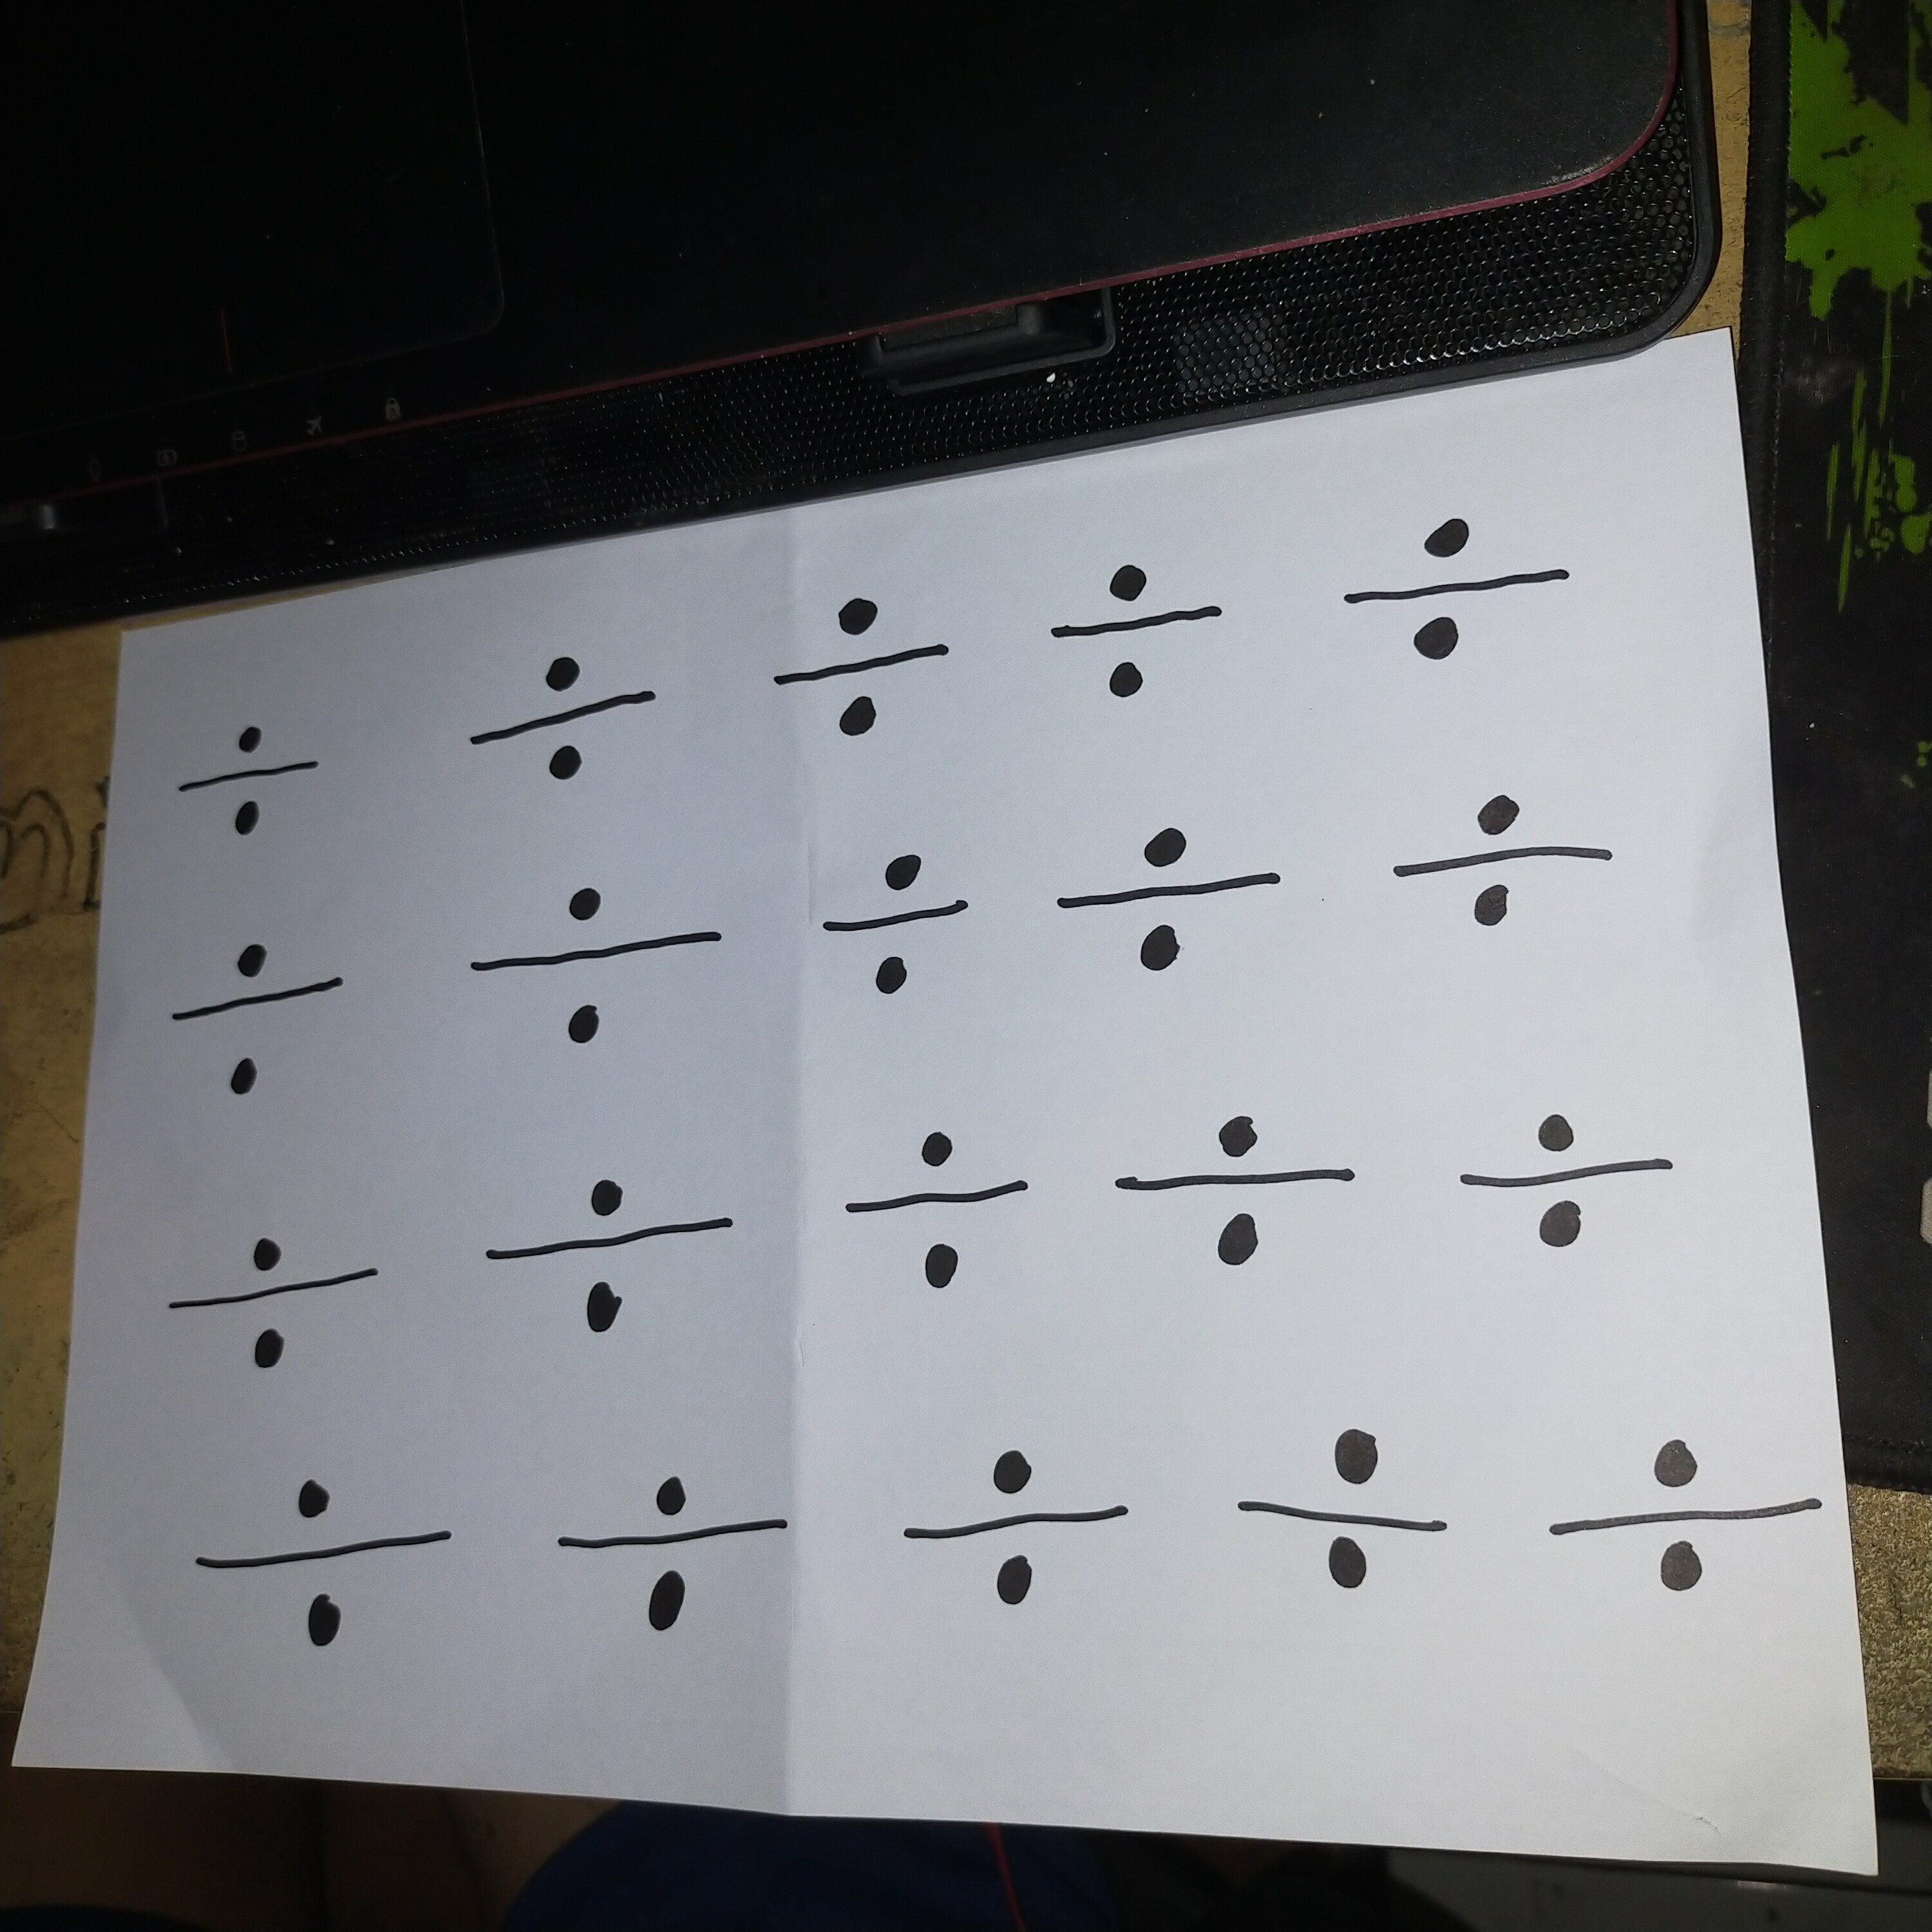div: (171, 1455, 488, 1678), (1529, 1432, 1840, 1623), (450, 1166, 770, 1344), (446, 880, 747, 1063), (884, 1435, 1159, 1623), (1329, 507, 1607, 683), (1037, 813, 1302, 997), (546, 1469, 808, 1651), (1114, 1102, 1376, 1280), (1227, 1414, 1471, 1602), (1383, 780, 1633, 948), (745, 581, 973, 757), (831, 1126, 1046, 1309), (1452, 1108, 1696, 1264), (146, 1231, 406, 1378), (158, 931, 366, 1106), (460, 645, 679, 795), (810, 844, 991, 1010), (1046, 563, 1247, 700), (164, 710, 347, 854)
